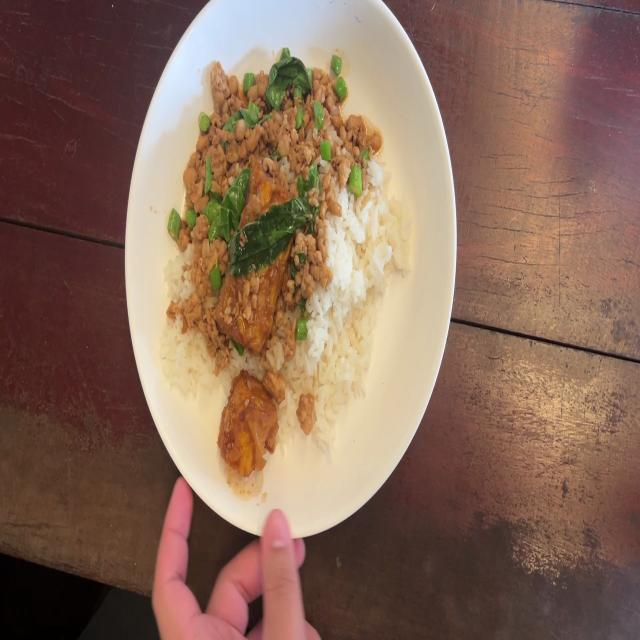01rice: (317, 178, 399, 443), (282, 306, 320, 438)
fried_tofo: (222, 171, 295, 335), (218, 378, 277, 472)
minced_pork: (216, 53, 386, 174), (180, 62, 223, 356), (296, 170, 322, 300)
stir_fried_basil: (166, 60, 411, 484)
